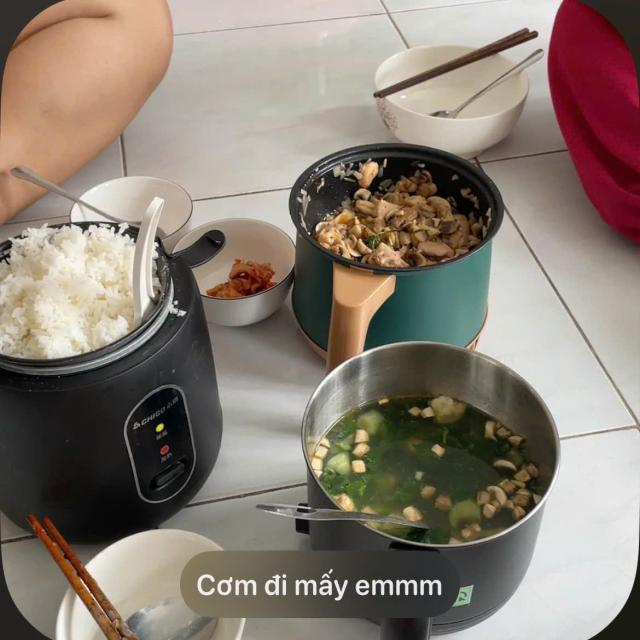canh_cai: (332, 412, 534, 530)
thit_kho: (327, 175, 482, 264)
